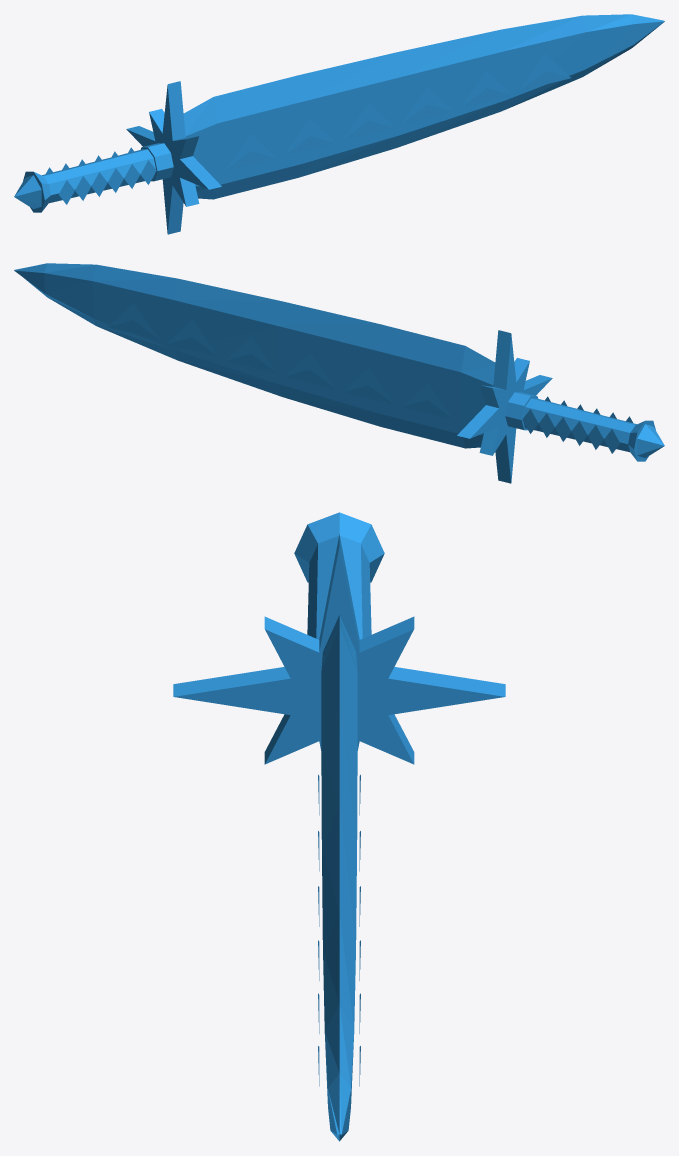
File: SM_FrostMoonBlade.obj
3 renders of one model, top to bottom at view 1: azimuth 30°, elevation 25°; view 2: azimuth 150°, elevation 25°; view 3: azimuth 270°, elevation 25°, orthographic. The views are drawn at different scales.
Visible parts, largest first — view 1: SM_FrostMoonBlade; view 2: SM_FrostMoonBlade; view 3: SM_FrostMoonBlade.
Boxes of the visible parts, x1=… form: SM_FrostMoonBlade: x1=14, y1=14, x2=664, y2=234; SM_FrostMoonBlade: x1=14, y1=263, x2=664, y2=483; SM_FrostMoonBlade: x1=173, y1=512, x2=505, y2=1141.
Size of the model in its own units: 199 by 44 by 44.
